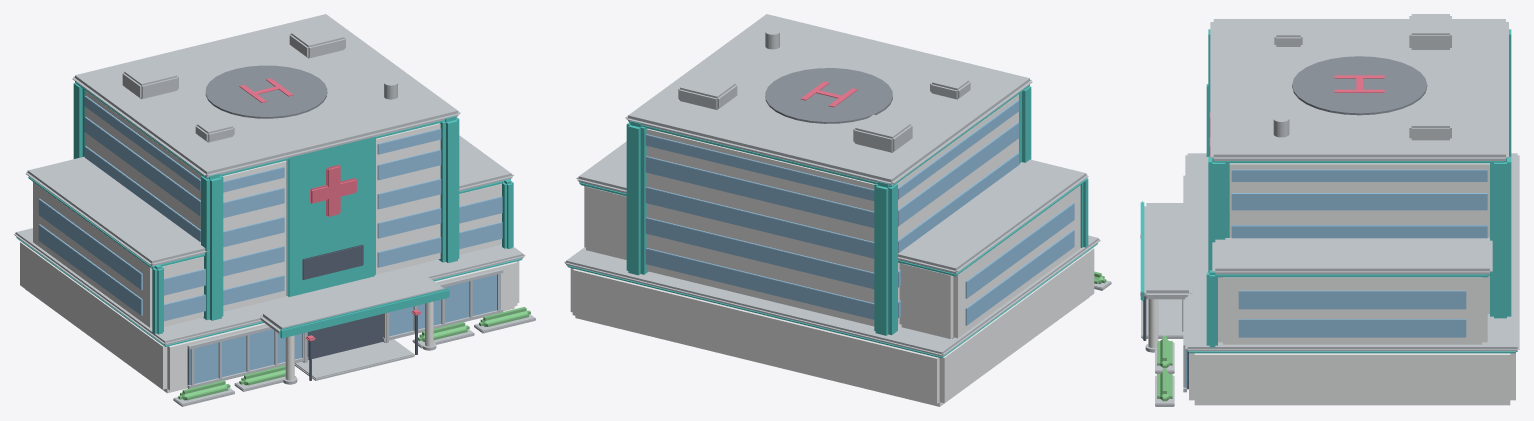
The model's file is rumah_sakit_modern2.fbx.
3 views of the same model, side by side, from view 1: azimuth 30°, elevation 25°; view 2: azimuth 150°, elevation 25°; view 3: azimuth 270°, elevation 25° (orthographic). The views are drawn at different scales.
Parts seen in each view (by area): view 1: RsTrim, RsWall, RsGlass, RsAccent, RsRoof, RsDark, RsGreen, RsSign; view 2: RsWall, RsTrim, RsGlass, RsAccent, RsRoof; view 3: RsTrim, RsWall, RsGlass, RsAccent, RsRoof, RsGreen, RsSign.
Boxes of the visible parts, x1,y1,x2,y2 form: RsTrim: [14, 14, 535, 406]; RsWall: [20, 90, 519, 393]; RsGlass: [38, 96, 502, 385]; RsAccent: [16, 81, 522, 346]; RsRoof: [205, 65, 327, 118]; RsDark: [187, 244, 417, 384]; RsGreen: [178, 307, 530, 400]; RsSign: [239, 78, 421, 341]; RsWall: [570, 94, 1094, 406]; RsTrim: [564, 14, 1111, 356]; RsGlass: [645, 100, 1074, 325]; RsAccent: [567, 84, 1097, 358]; RsRoof: [765, 68, 892, 123]; RsTrim: [1141, 14, 1519, 406]; RsWall: [1148, 163, 1515, 405]; RsGlass: [1185, 169, 1487, 388]; RsAccent: [1140, 29, 1517, 353]; RsRoof: [1292, 56, 1427, 115]; RsGreen: [1157, 335, 1172, 401]; RsSign: [1140, 75, 1384, 296].
Bounding box in the file's own units: 65.4 × 37.9 × 53.35.
